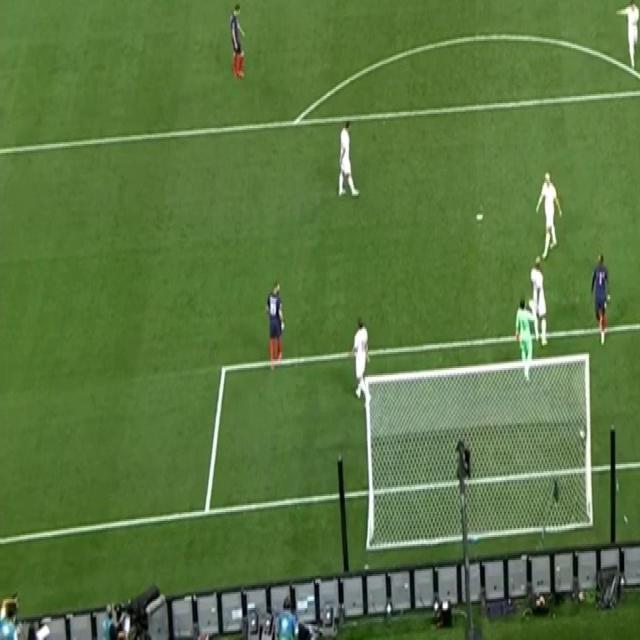player-white: (536, 170, 562, 262), (349, 318, 373, 408), (514, 297, 538, 385), (591, 253, 611, 347), (265, 280, 285, 373), (529, 256, 549, 346), (338, 119, 360, 198), (616, 0, 639, 71), (230, 1, 246, 78)
